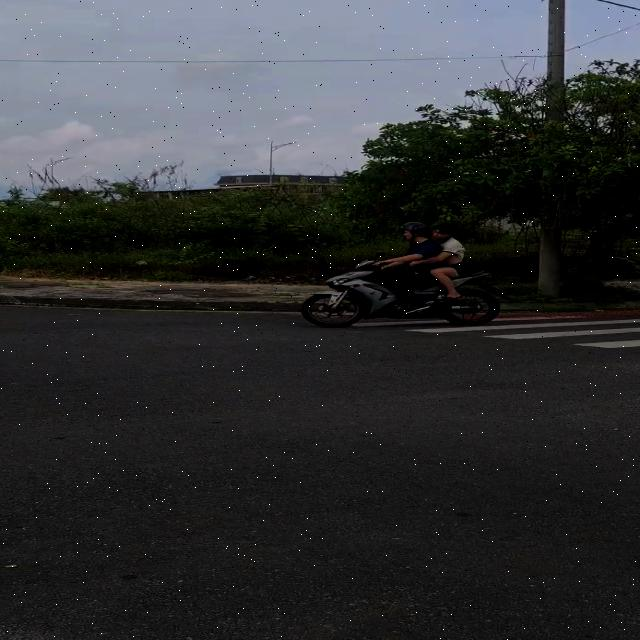helmet: (398, 222, 430, 245)
no_helmet: (434, 222, 466, 241)
